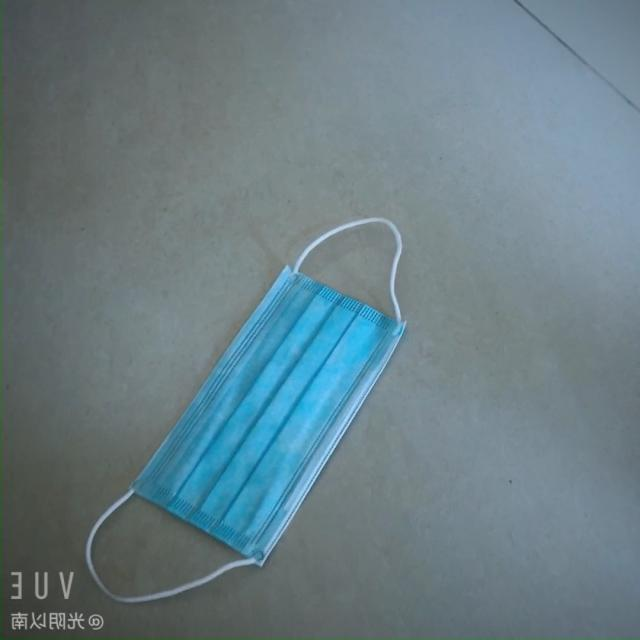face mask: (122, 259, 418, 562)
